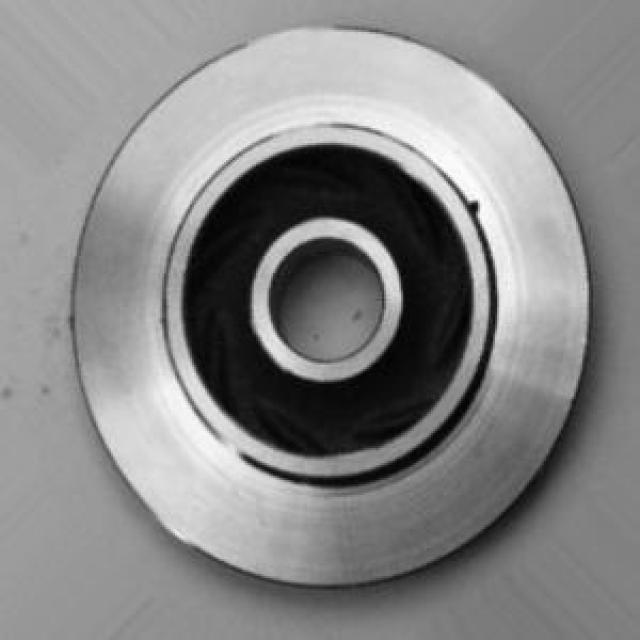Defect: (468, 196, 484, 230)
